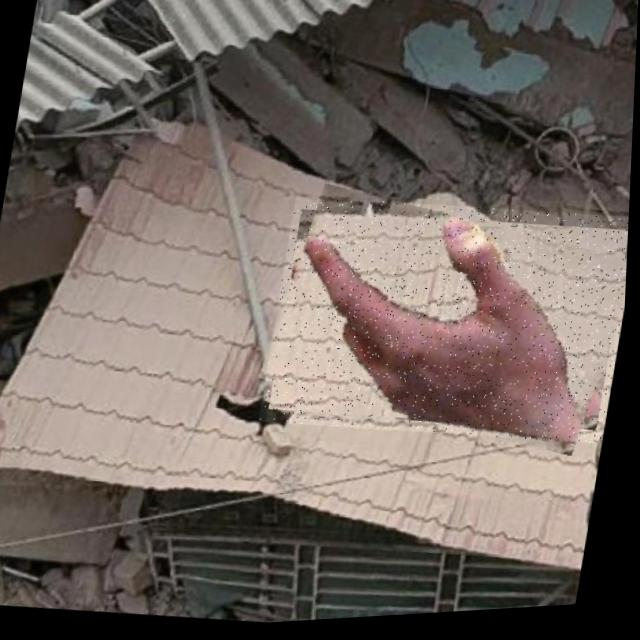Person in Rubble: (260, 183, 633, 467)
